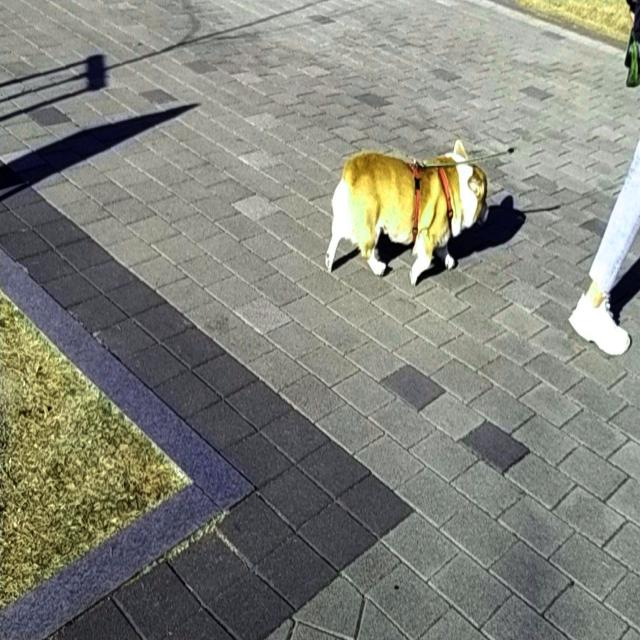Dog: (325, 138, 490, 287)
